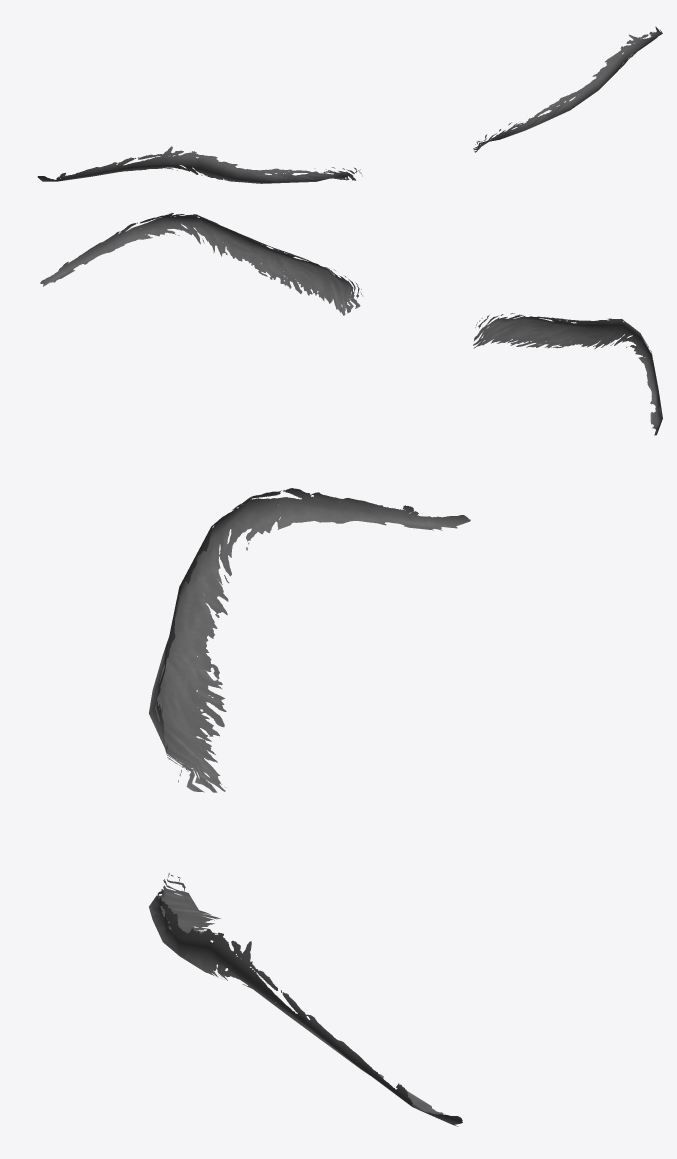
The model's file is brow003.glb.
3 views of the same model, one above another, from view 1: azimuth 30°, elevation 25°; view 2: azimuth 150°, elevation 25°; view 3: azimuth 270°, elevation 25° (orthographic). The views are drawn at different scales.
Parts seen in each view (by area): view 1: editor_brow003; view 2: editor_brow003; view 3: editor_brow003.
Part boxes in pixels (x1=…): editor_brow003: x1=37, y1=26, x2=662, y2=183; editor_brow003: x1=40, y1=213, x2=662, y2=435; editor_brow003: x1=149, y1=488, x2=470, y2=1126.
Bounding box in the file's own units: 0.1189 × 0.0126 × 0.0307.
Materials: 1 (1 with a texture image).
